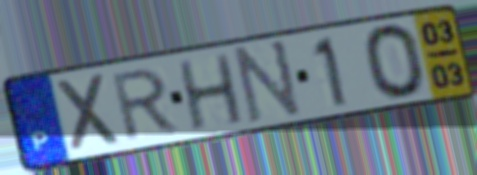1: (310, 33, 351, 110)
H: (175, 50, 248, 134)
N: (233, 36, 304, 127)
O: (360, 21, 430, 101)
R: (110, 64, 183, 144)
X: (52, 70, 126, 156)
